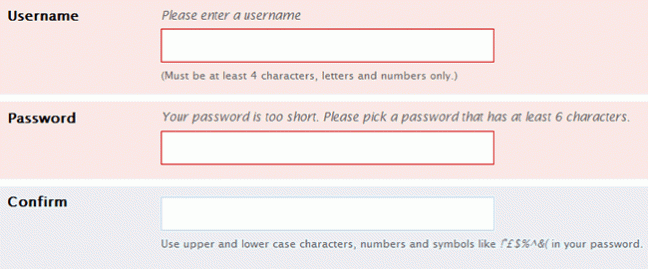error_field: (160, 28, 495, 63), (160, 131, 497, 165)
error_message: (160, 110, 631, 125), (160, 69, 460, 83), (161, 8, 303, 21), (6, 6, 80, 22), (8, 112, 81, 127)
